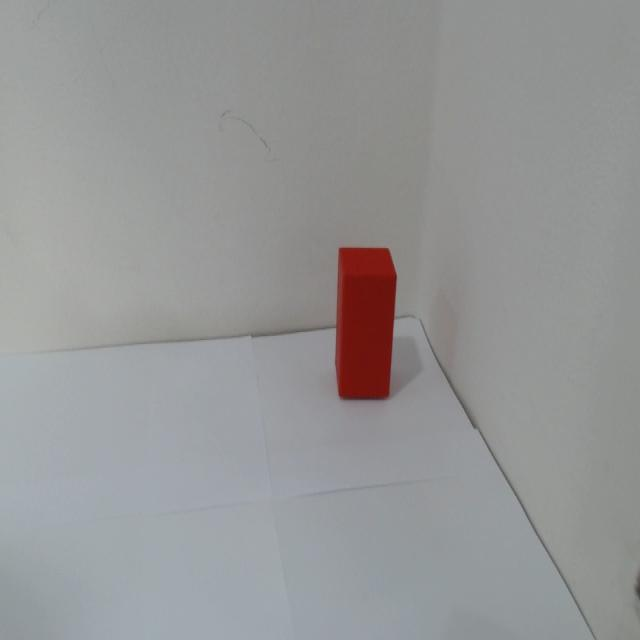cube: (329, 245, 400, 406)
